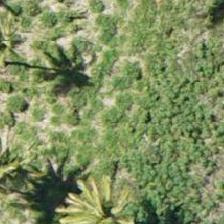coconut_tree: (36, 25, 126, 115), (56, 167, 146, 223), (0, 0, 52, 74)
